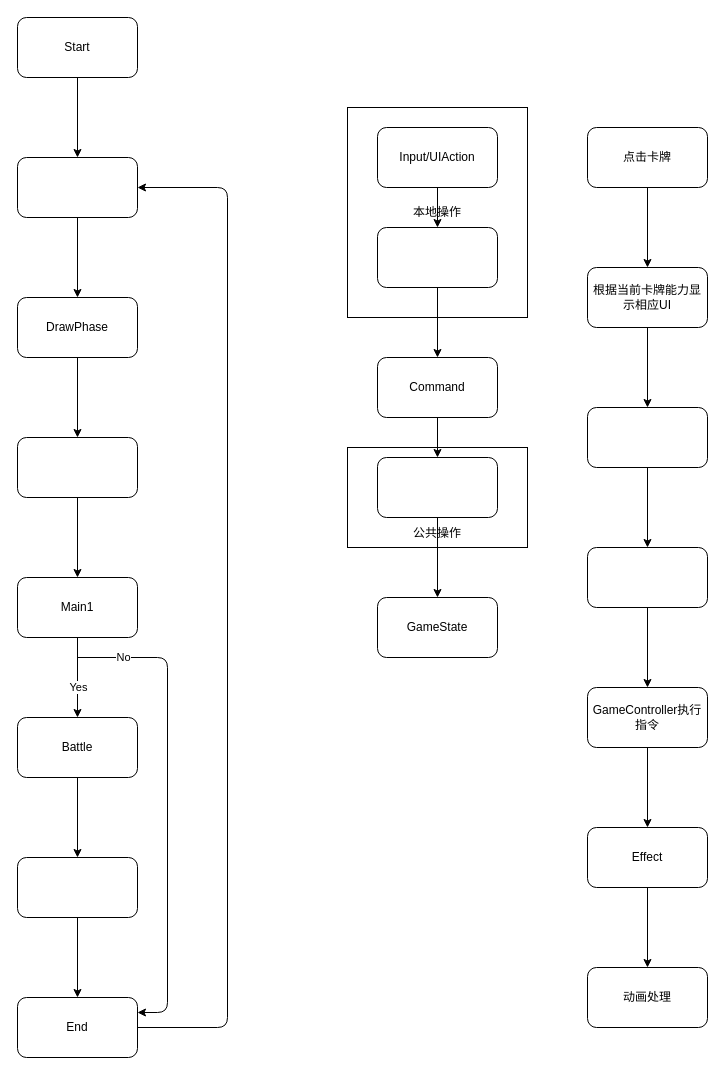
Some shapes in this 725 by 1075 pixel diagram are drawn without their labels. Here are the shapes that lost their labels. From the top down, the box of each, then its label:
(16, 156, 138, 218): Draw
(376, 226, 498, 288): InteractionController
(586, 406, 708, 468): 选择功能
(16, 436, 138, 498): StandPhase
(376, 456, 498, 518): GameController
(586, 546, 708, 608): 生成Command指令
(16, 856, 138, 918): Main2
